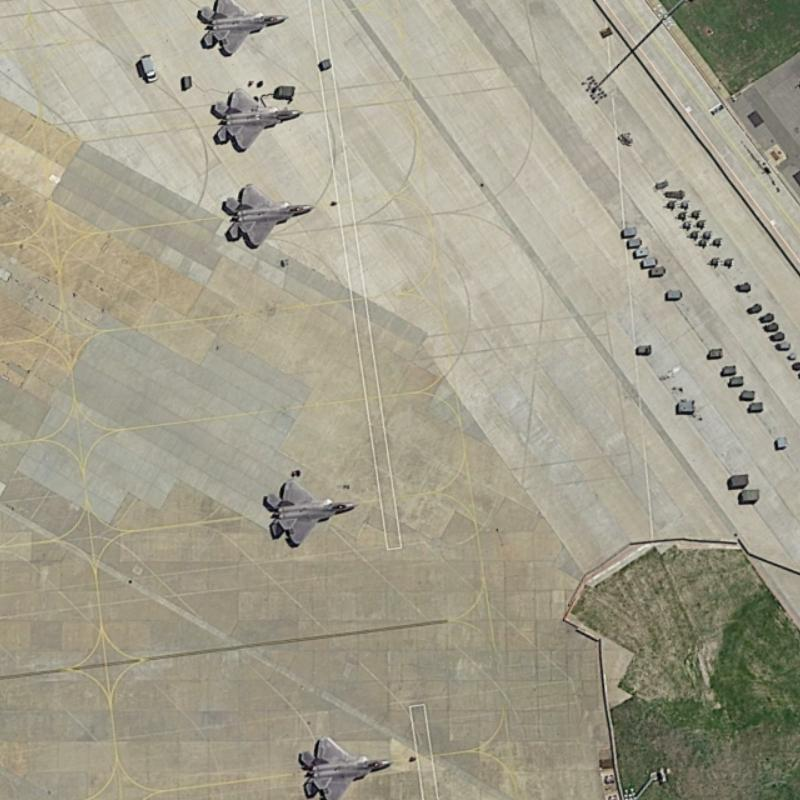A15: (250, 471, 361, 553), (200, 79, 306, 157), (214, 180, 320, 255), (292, 727, 394, 799), (189, 0, 292, 60)
